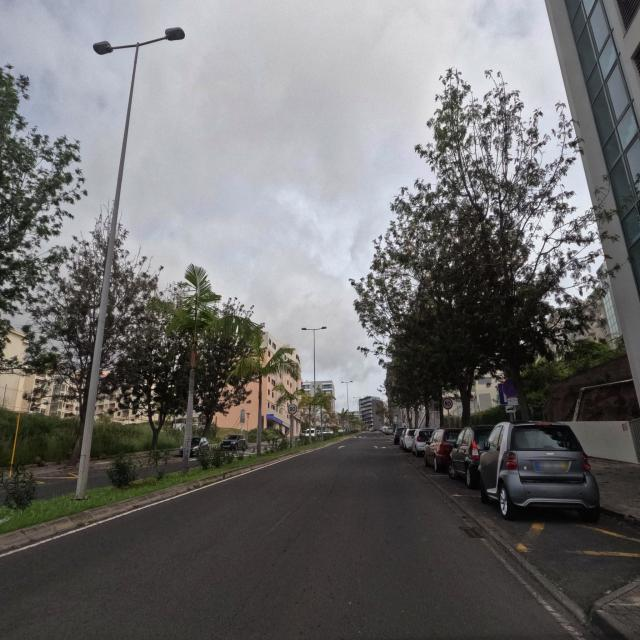car: (478, 419, 602, 522), (447, 423, 495, 489), (423, 426, 462, 473), (410, 428, 436, 458), (178, 436, 209, 457), (220, 433, 248, 452), (401, 428, 418, 452), (392, 427, 406, 444), (385, 426, 395, 436)
